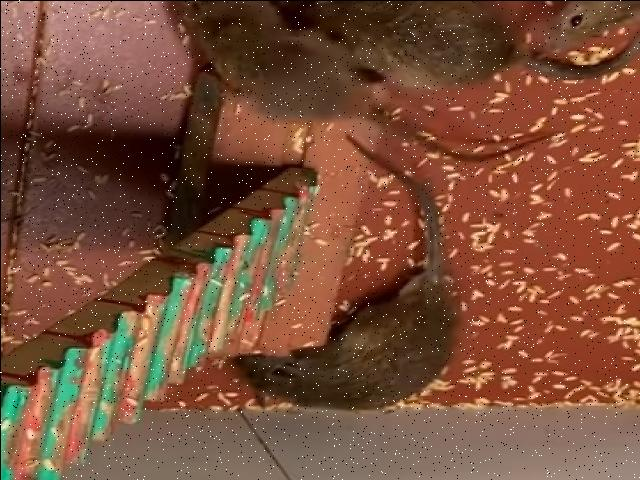Tikus: (231, 134, 460, 412), (166, 0, 554, 162)
